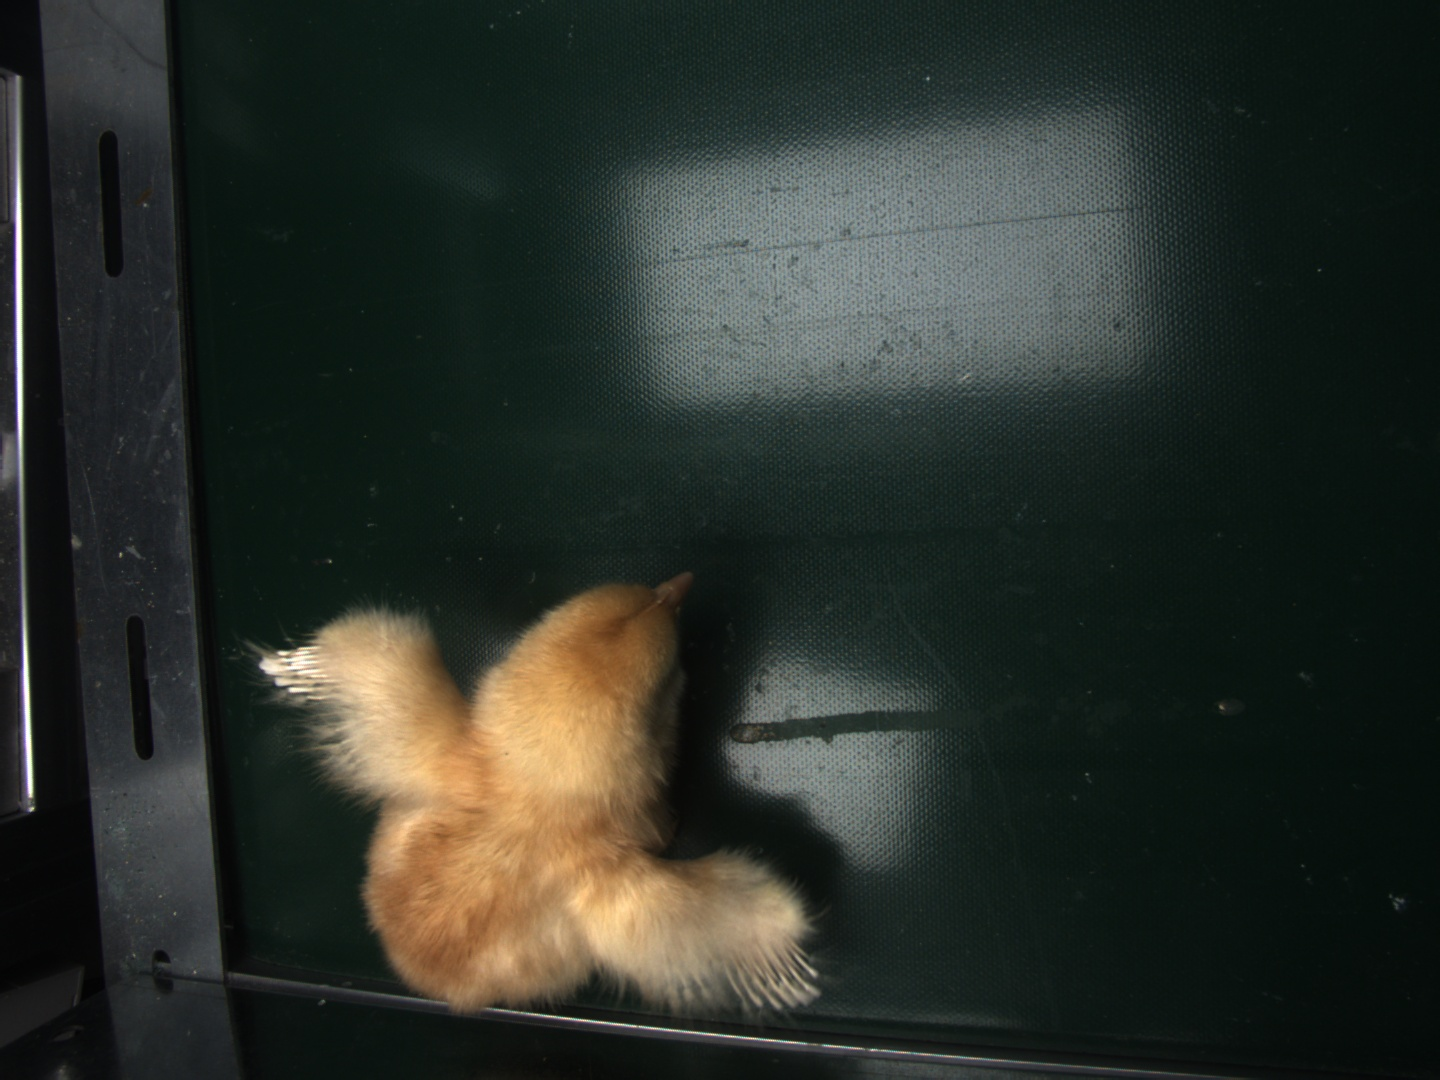female: (731, 942, 821, 1010)
